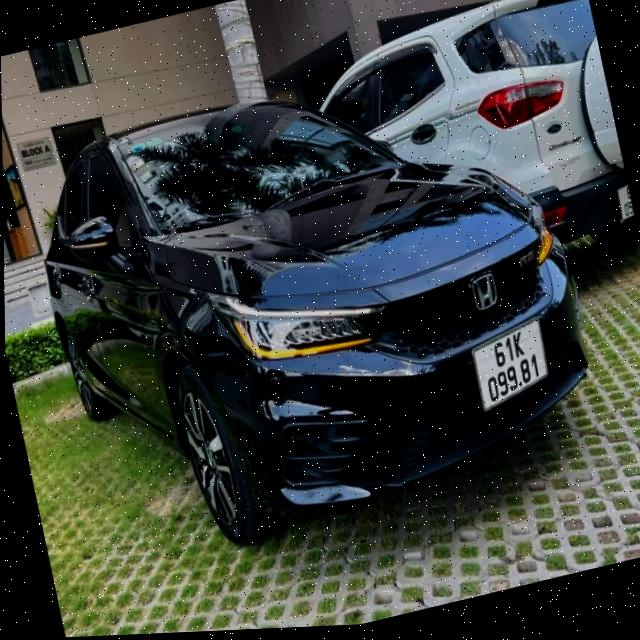car: (14, 23, 632, 578), (292, 0, 640, 309)
plate: (462, 317, 562, 416), (609, 175, 636, 226)
